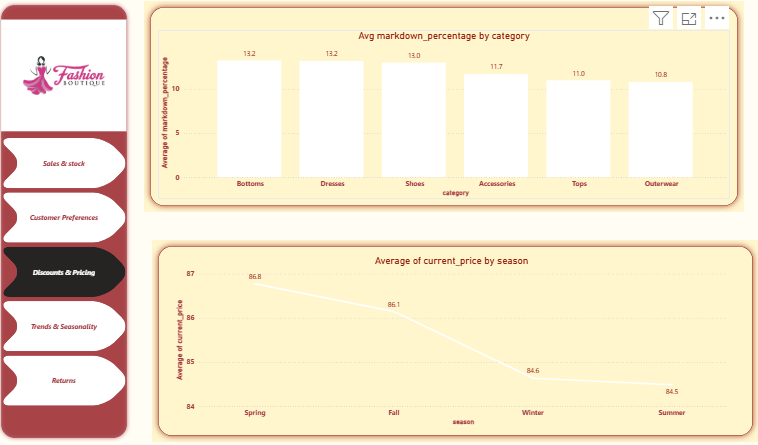

Layout of this report page (visuals, bound fields, positions):
{"tool":"powerbi","page":{"name":"Discounts & Pricing","canvas":[1500,900],"ordinal":2},"visuals":[{"type":"shape","box":[305.1,484.3,1194.9,397.6],"z":0},{"type":"shape","box":[289.4,13.8,1181.1,415.4],"z":1000},{"type":"columnChart","title":"Avg  markdown_percentage by category","fields":{"Category":["fashion_boutique_dataset.category"],"Y":["Avg(fashion_boutique_dataset.markdown_percentage)"]},"box":[316.9,70.9,1126,332.7],"z":2000},{"type":"shape","box":[0,13.8,263.8,868.1],"z":3000},{"type":"image","box":[0,45.3,263.8,230.3],"z":4000},{"type":"pageNavigator","box":[0,283.5,263.8,527.6],"z":5000},{"type":"lineChart","fields":{"Y":["Avg(fashion_boutique_dataset.current_price)"],"Category":["fashion_boutique_dataset.season"]},"box":[346.5,513.8,1096.5,340.6],"z":6000}]}

Visuals, with their boxes on the page's 1500x900 design canvas (x1, y1, x2, y2). These are canvas units, not pixel positions in the 758x445 screenshot, which may show the page scaled, cropped or inside an application window:
shape: [305,484,1500,882]
shape: [289,14,1470,429]
"Avg  markdown_percentage by category" columnChart: [317,71,1443,404]
shape: [0,14,264,882]
image: [0,45,264,276]
pageNavigator: [0,284,264,811]
lineChart - Avg(fashion_boutique_dataset.current_price) x fashion_boutique_dataset.season: [346,514,1443,854]
